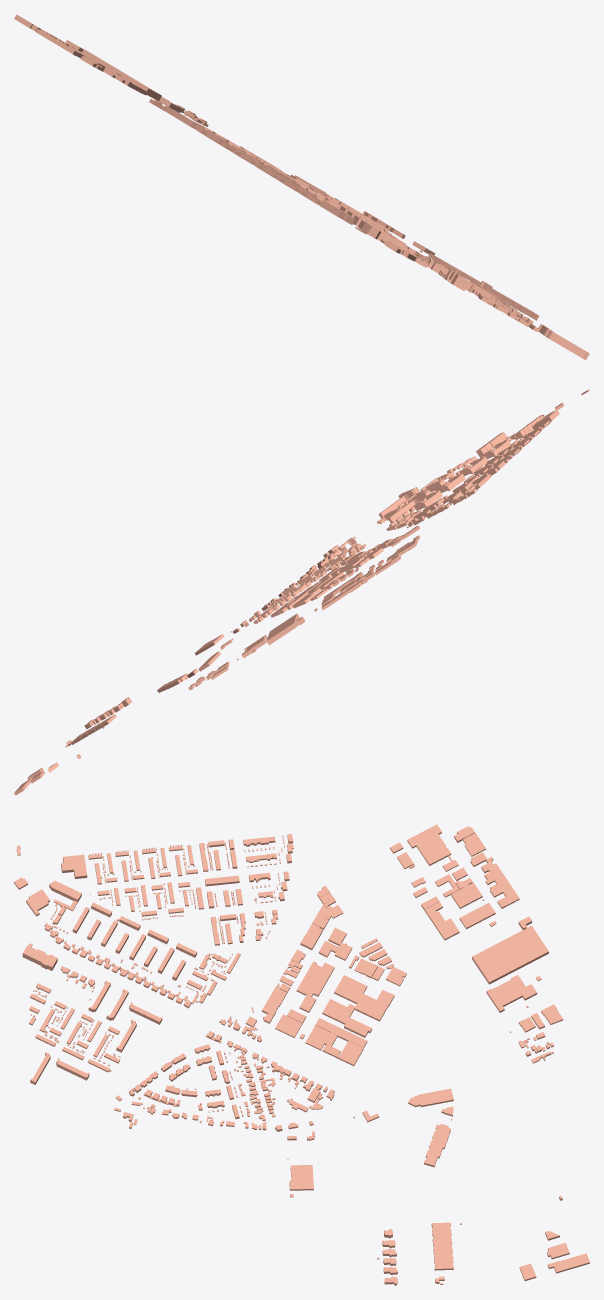
3 renders of one model, top to bottom at view 1: azimuth 30°, elevation 25°; view 2: azimuth 150°, elevation 25°; view 3: azimuth 270°, elevation 25°, orthographic. The views are drawn at different scales.
Size of the model in its own units: 945 by 734 by 1322.
